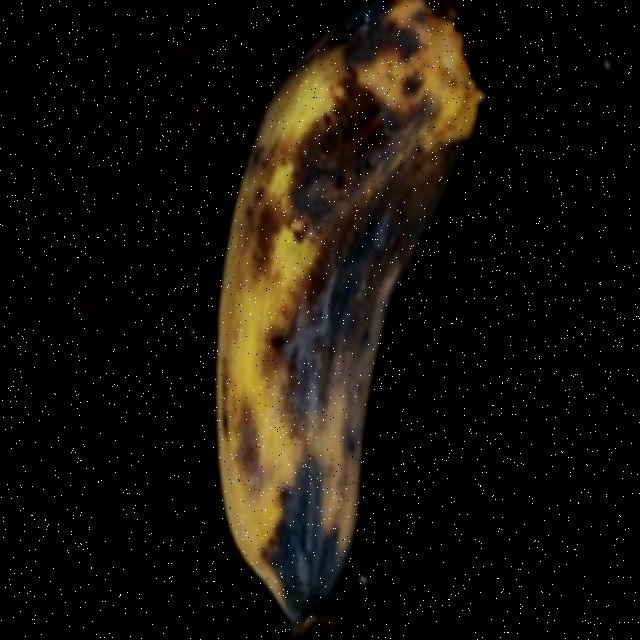Rotten: (142, 0, 588, 636)
